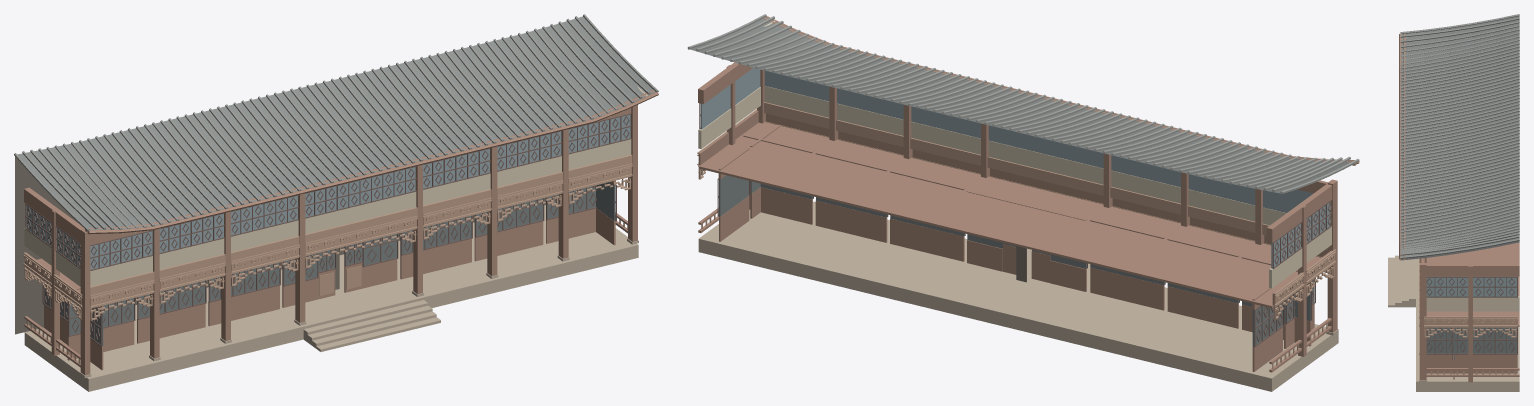
Rendered from jingan-jueyuan-xiangguang-hall-lod.glb.
3 views of the same model, side by side, from view 1: azimuth 30°, elevation 25°; view 2: azimuth 150°, elevation 25°; view 3: azimuth 270°, elevation 25° (orthographic). The views are drawn at different scales.
Parts seen in each view (by area): view 1: 觉园香光堂临院木廊; view 2: 觉园香光堂临院木廊; view 3: 觉园香光堂临院木廊.
Part boxes in pixels (x1,y1,x2,y2): 觉园香光堂临院木廊: [14, 14, 658, 391]; 觉园香光堂临院木廊: [687, 14, 1359, 391]; 觉园香光堂临院木廊: [1388, 14, 1519, 391].
Bounding box in the file's own units: 25.63 × 8.34 × 6.34.
